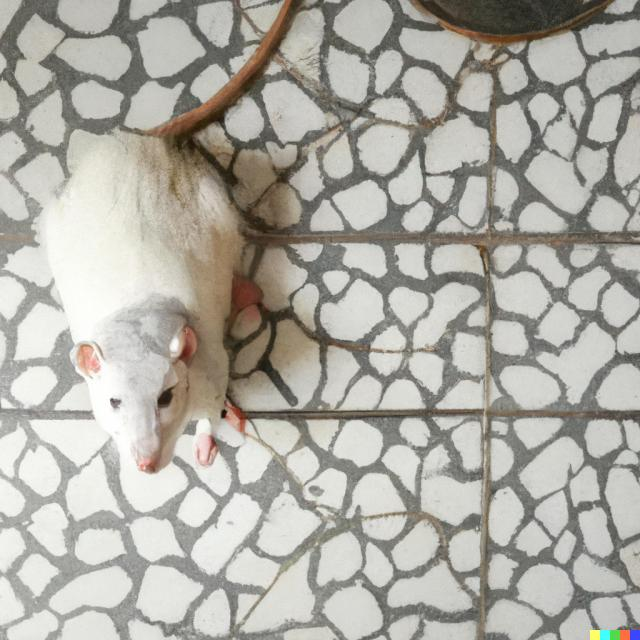rodent: (39, 117, 268, 487)
